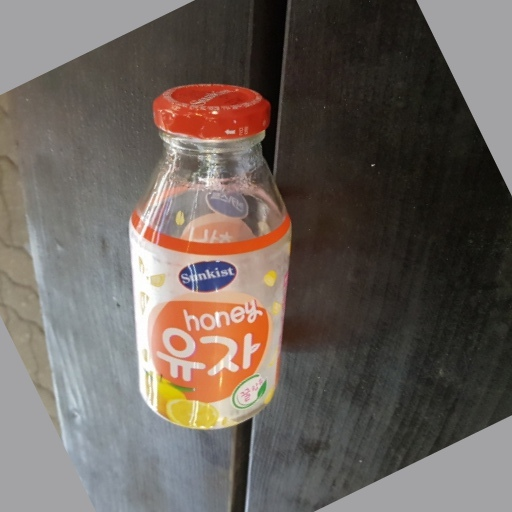Glass_4: (121, 78, 294, 430)
